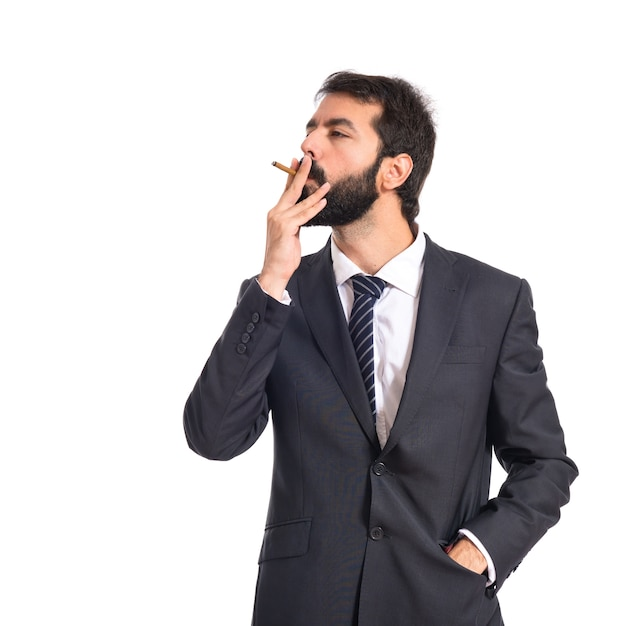cigarette: (269, 157, 319, 186)
